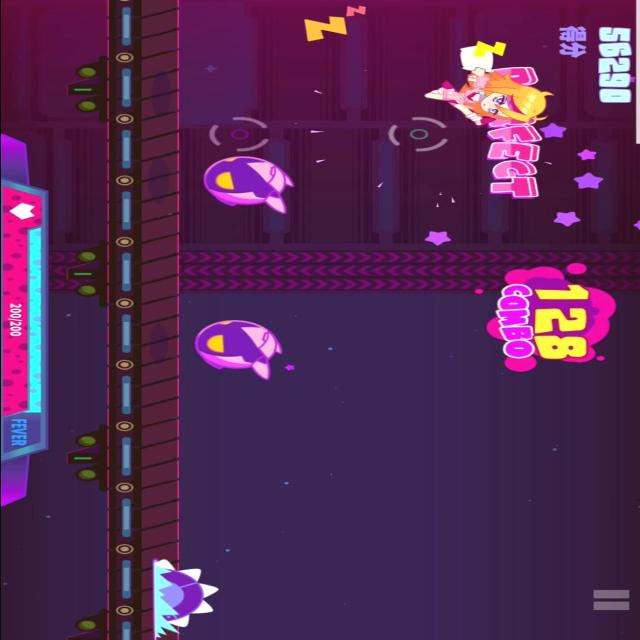ci: (141, 560, 218, 640)
jiqiqiu: (188, 312, 292, 378), (199, 152, 303, 216)
